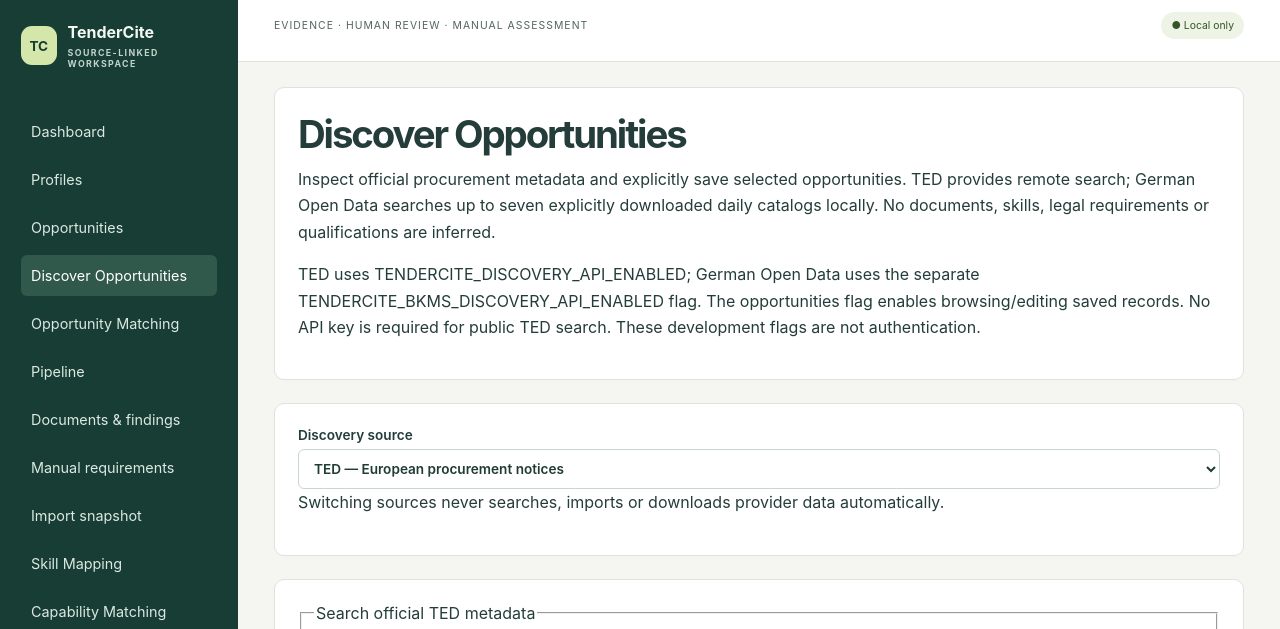
Test: catalog conflict and missing metadata remain explicit, without automatic retry
The width and height of the screenshot is (1280, 629).
Select "German Bekanntmachungsservice — public procurement" in the dropdown labelled "Discovery source" at [759, 469], box [298,449,1220,489]
(page scrolled)
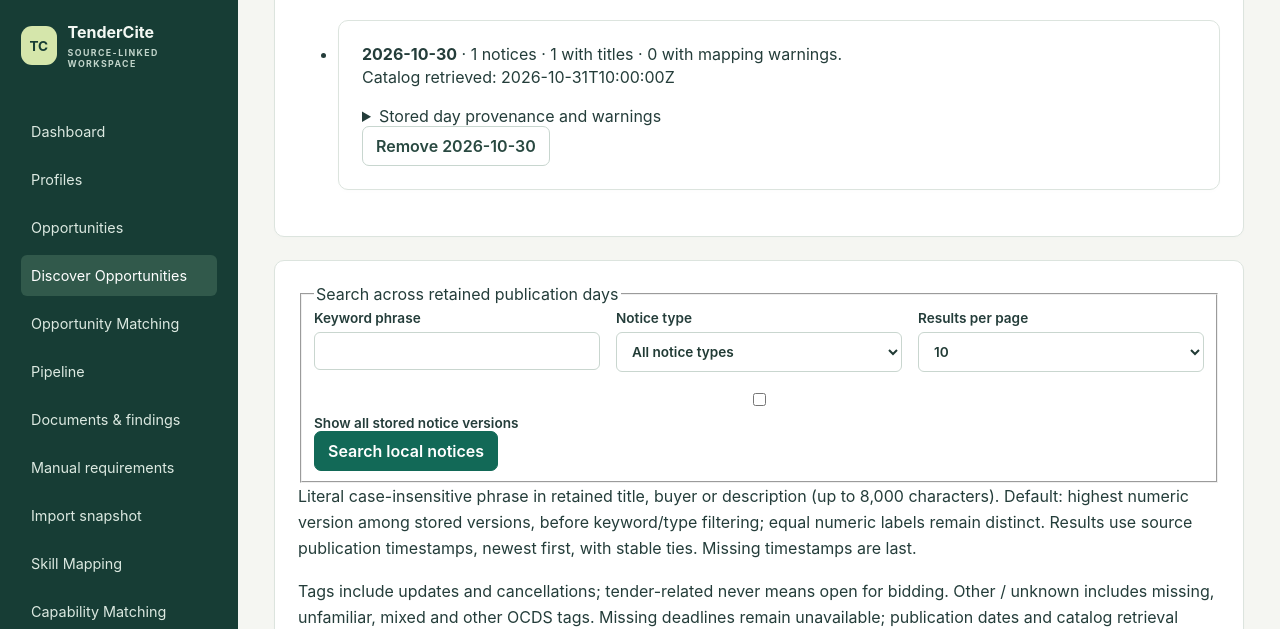
Expected: the button "Search local notices" is enabled, [314,431,498,471]
Type "Software" into the field labelled "Keyword phrase" at [457, 351], box [314,332,600,370]
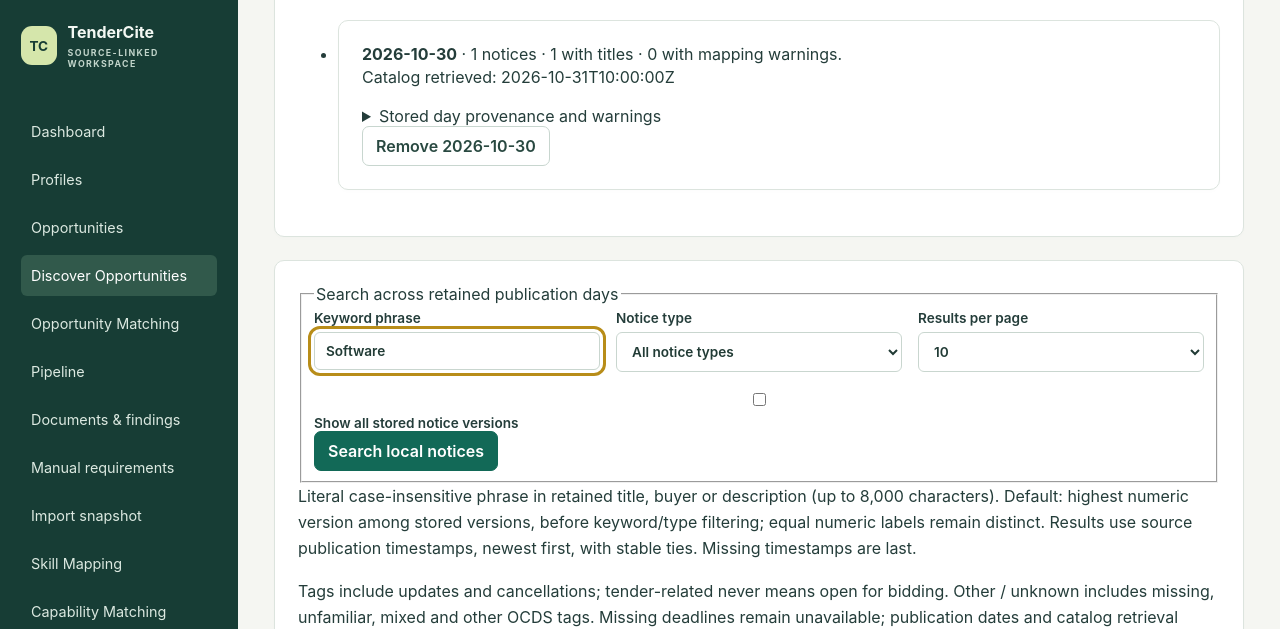
Click the button "Search local notices" at [406, 451], box [314,431,498,471]
(page scrolled)
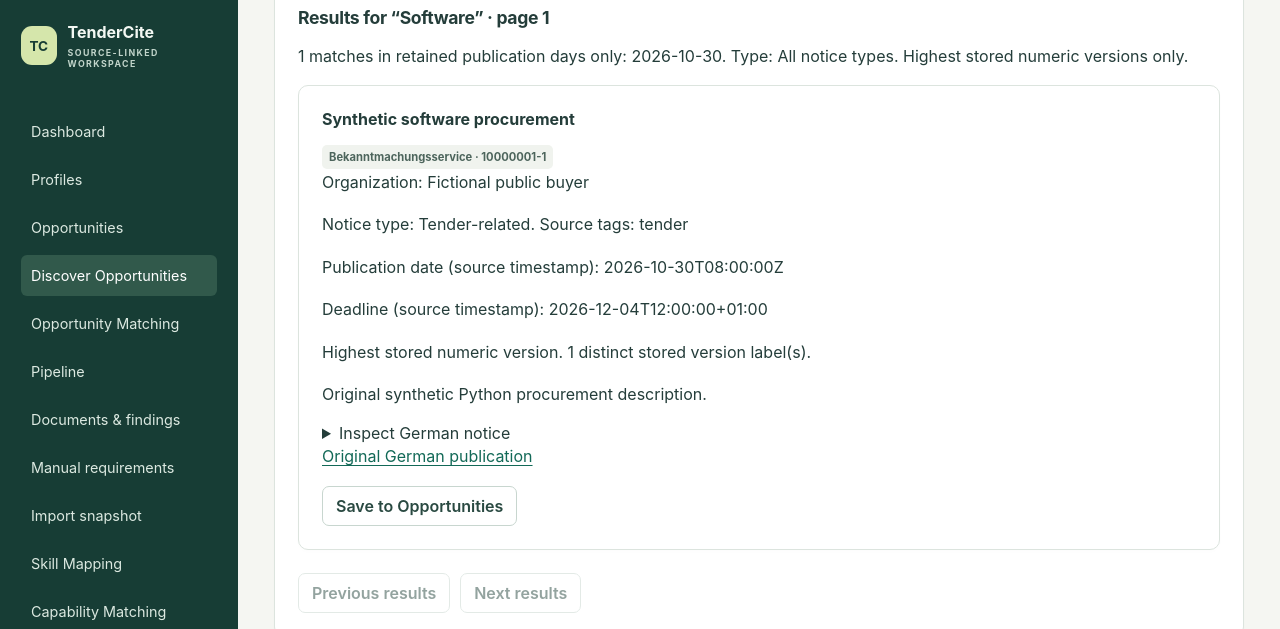
Expected: the heading "Synthetic software procurement" is shown, [322,109,575,129]
Click the button "Save to Opportunities" at [420, 506], box [322,486,517,526]
(page scrolled)
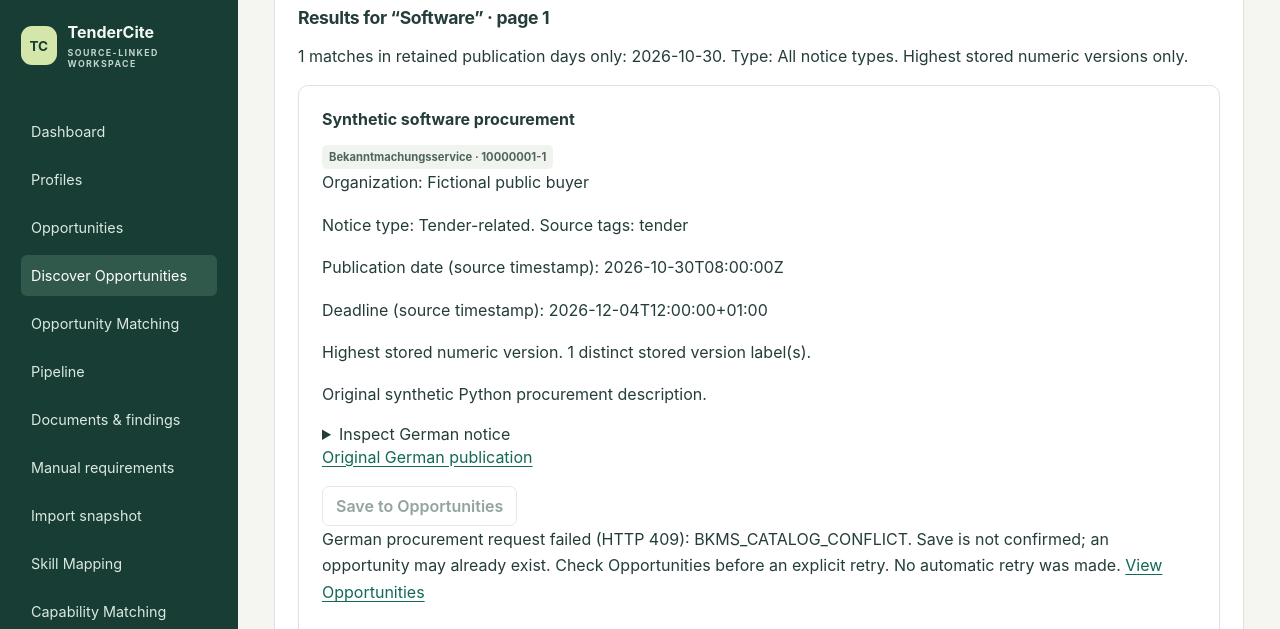
Expected: the message shows "BKMS_CATALOG_CONFLICT", [322,529,1121,576]
